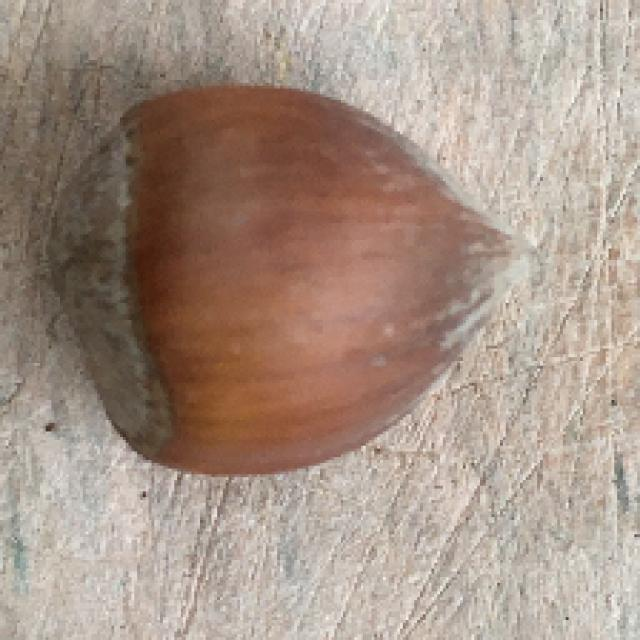damagedHazelnut: (48, 75, 517, 476)
